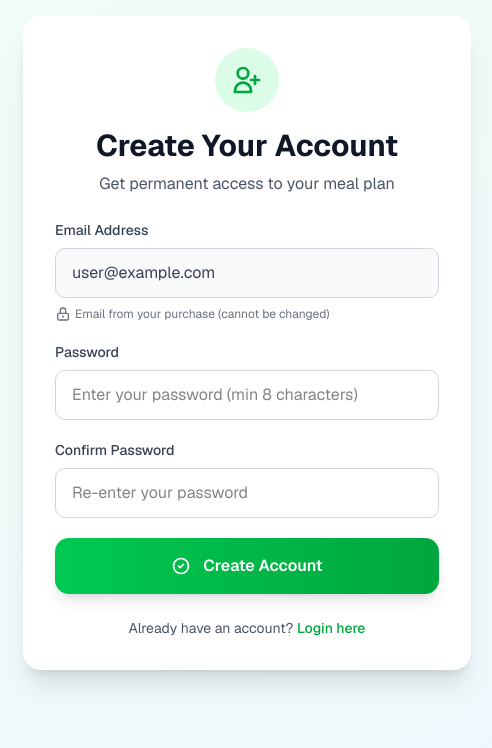
Test case: CreateAccountPage › Form Submission › should show loading state during submission
The width and height of the screenshot is (492, 748).
Type "ValidPassword123!" into the password field labelled "Password" at (247, 395), box [55, 370, 439, 420]
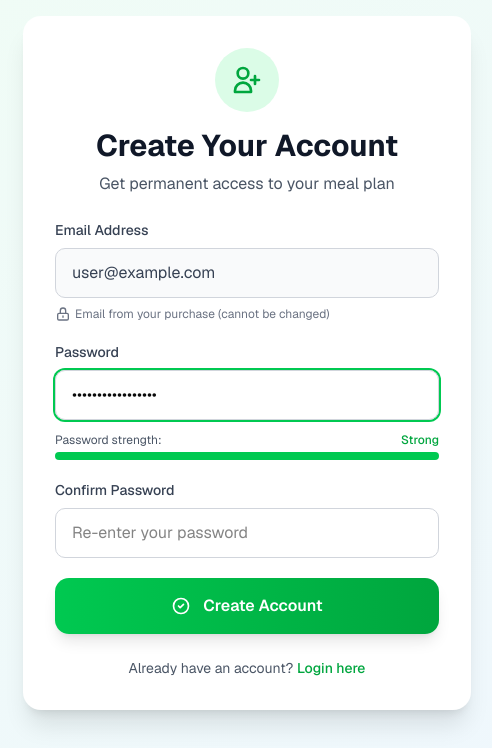
Type "ValidPassword123!" into the password field labelled "Confirm Password" at (247, 533), box [55, 508, 439, 558]
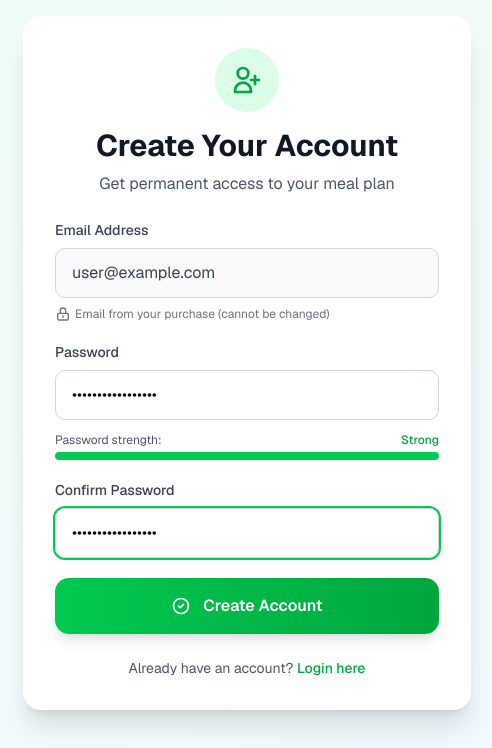
Click the button "Create Account" at (247, 606), box [55, 578, 439, 634]
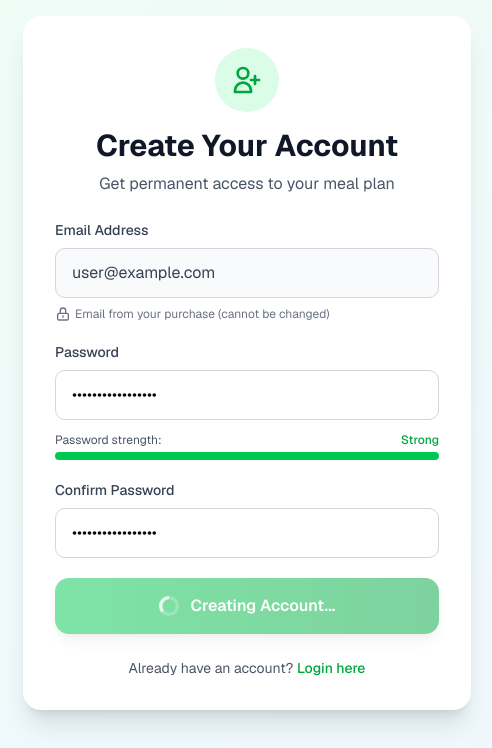
Check: the text "Creating Account..." is shown, box [191, 594, 336, 618]
Check: the button named "Create Account" is disabled, box [55, 578, 439, 634]
